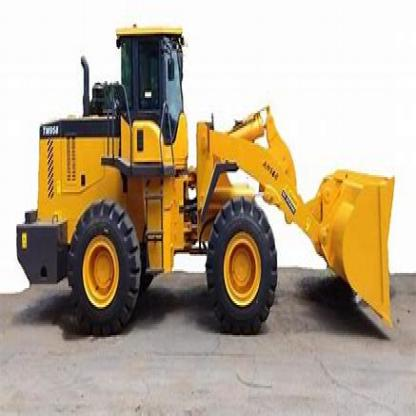bull_dozer/loader/grader: (12, 21, 394, 346)
